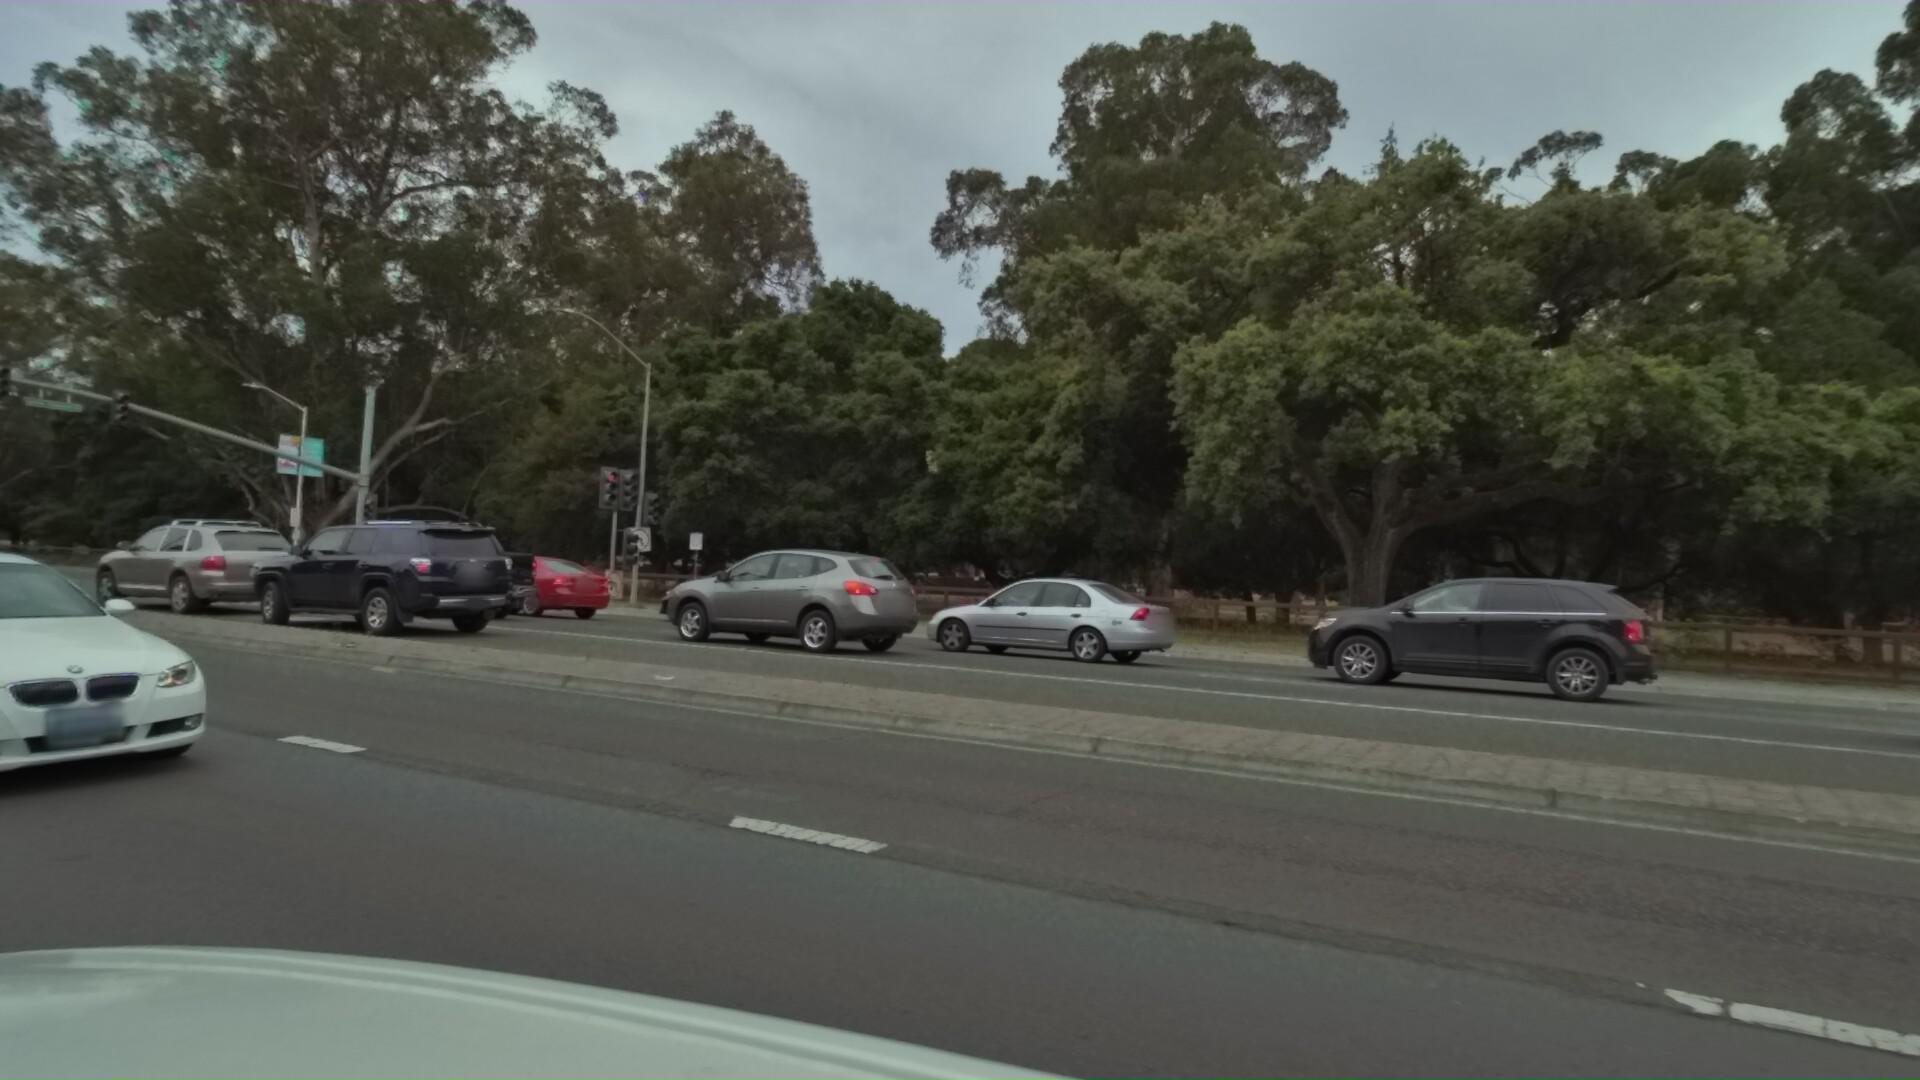car: (0, 522, 249, 820), (1241, 558, 1622, 709), (212, 506, 504, 642), (1812, 517, 1920, 844), (622, 537, 911, 658), (887, 560, 1159, 669), (272, 513, 535, 618), (61, 512, 301, 618), (641, 566, 866, 645), (411, 542, 604, 622)
